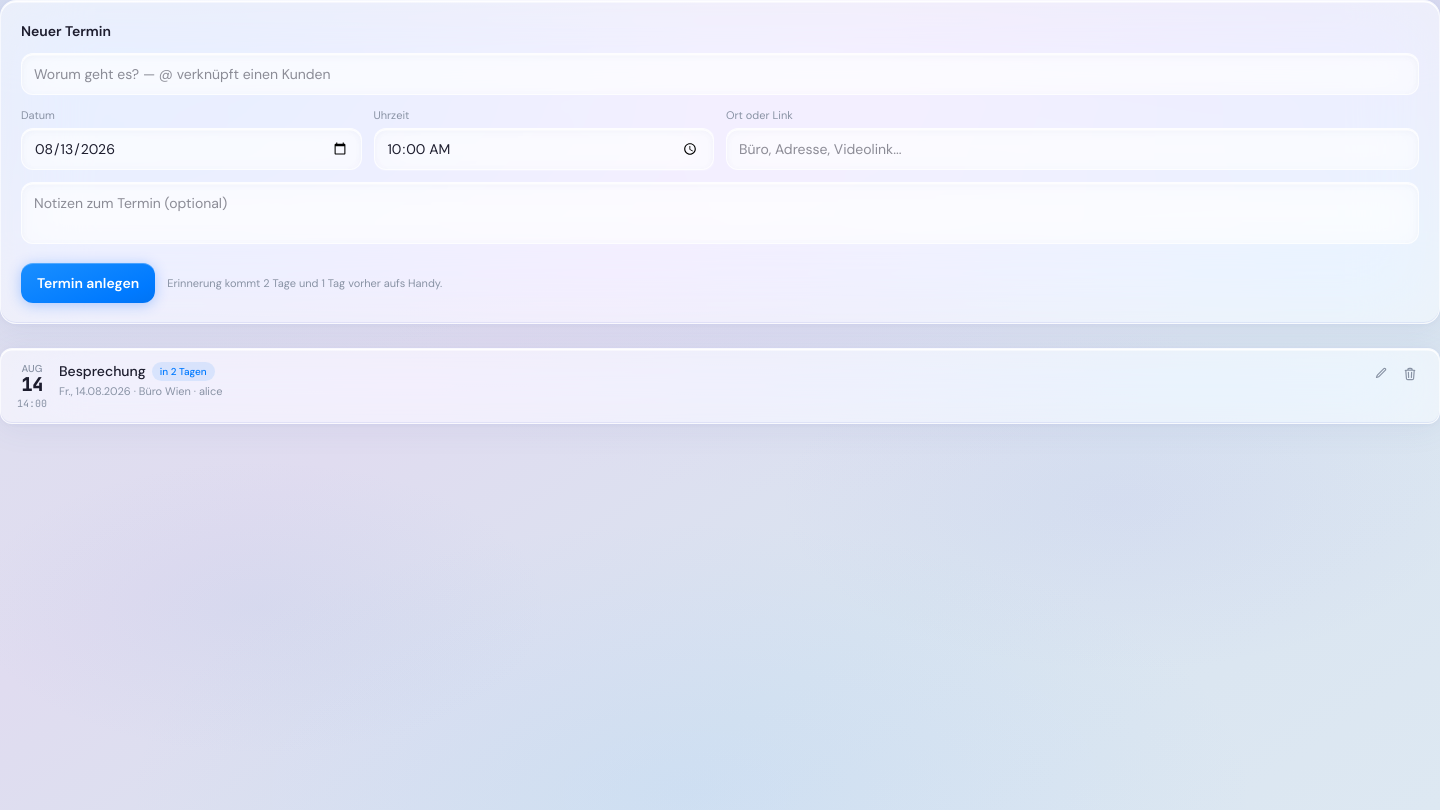
Test: AppointmentsPanel › übernimmt einen Termin zum Bearbeiten ins Formular
This screenshot has width=1440, height=810.
Expected: the text "Besprechung" is shown, [59,361,146,381]
Click the button named "Besprechung bearbeiten" at x=1380, y=374, box [1367,361,1393,387]
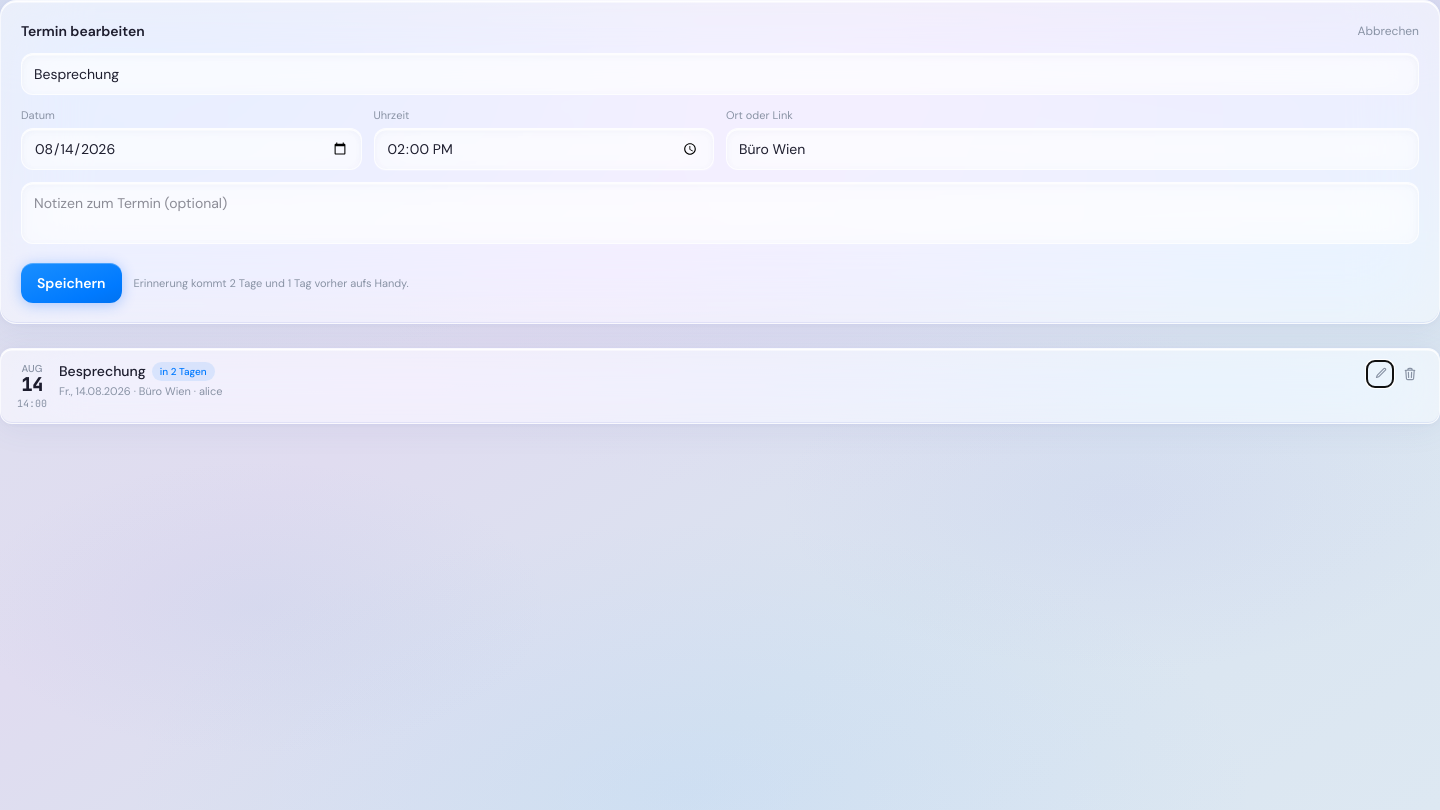
Expected: the heading "Termin bearbeiten" is shown, [21,21,145,41]
Expected: the field named "Titel" holds "Besprechung", [21,53,1419,95]
Expected: the time field labelled "Uhrzeit" holds "14:00", [374,128,714,170]
